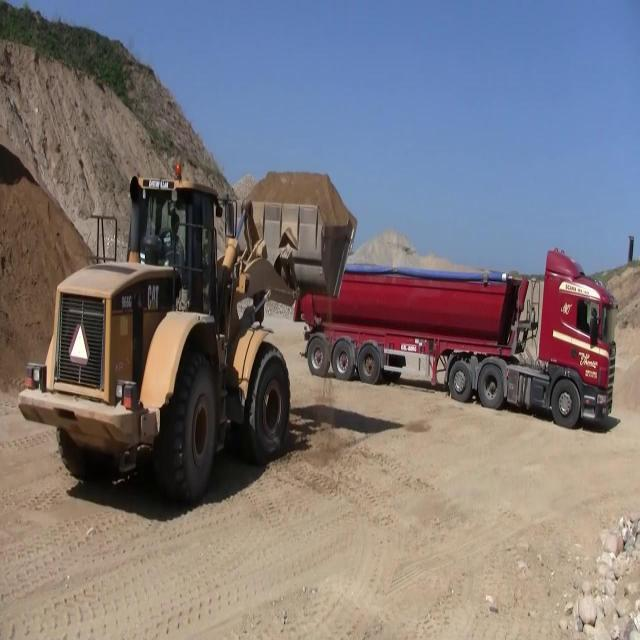Dump Truck: (292, 246, 617, 428)
Loader: (18, 162, 358, 513)
